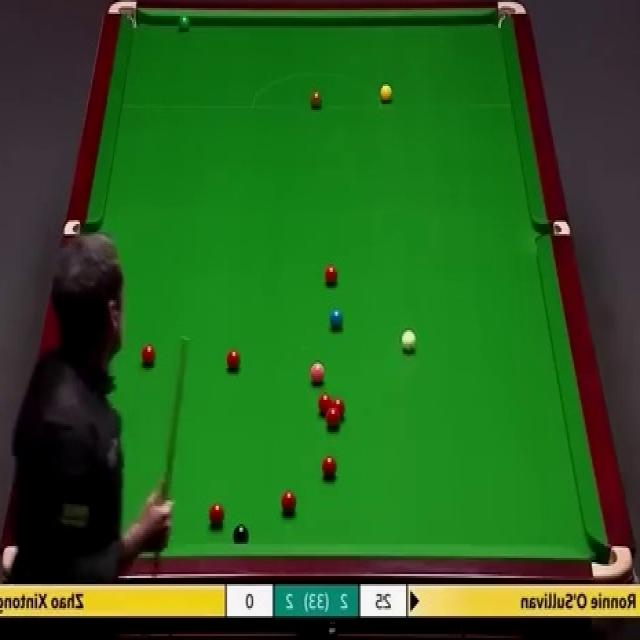black-ball: (232, 523, 248, 545)
blue-ball: (328, 308, 344, 329)
brown-ball: (310, 88, 322, 108)
green-ball: (177, 11, 190, 30)
pink-ball: (310, 363, 326, 385)
red-ball: (320, 451, 337, 480), (225, 346, 242, 373), (280, 489, 296, 517), (208, 504, 225, 530), (142, 344, 156, 369), (332, 398, 346, 422), (318, 393, 331, 418), (324, 411, 340, 430), (324, 264, 337, 285)
white-ball: (399, 327, 418, 355)
yellow-ball: (381, 86, 393, 102)
